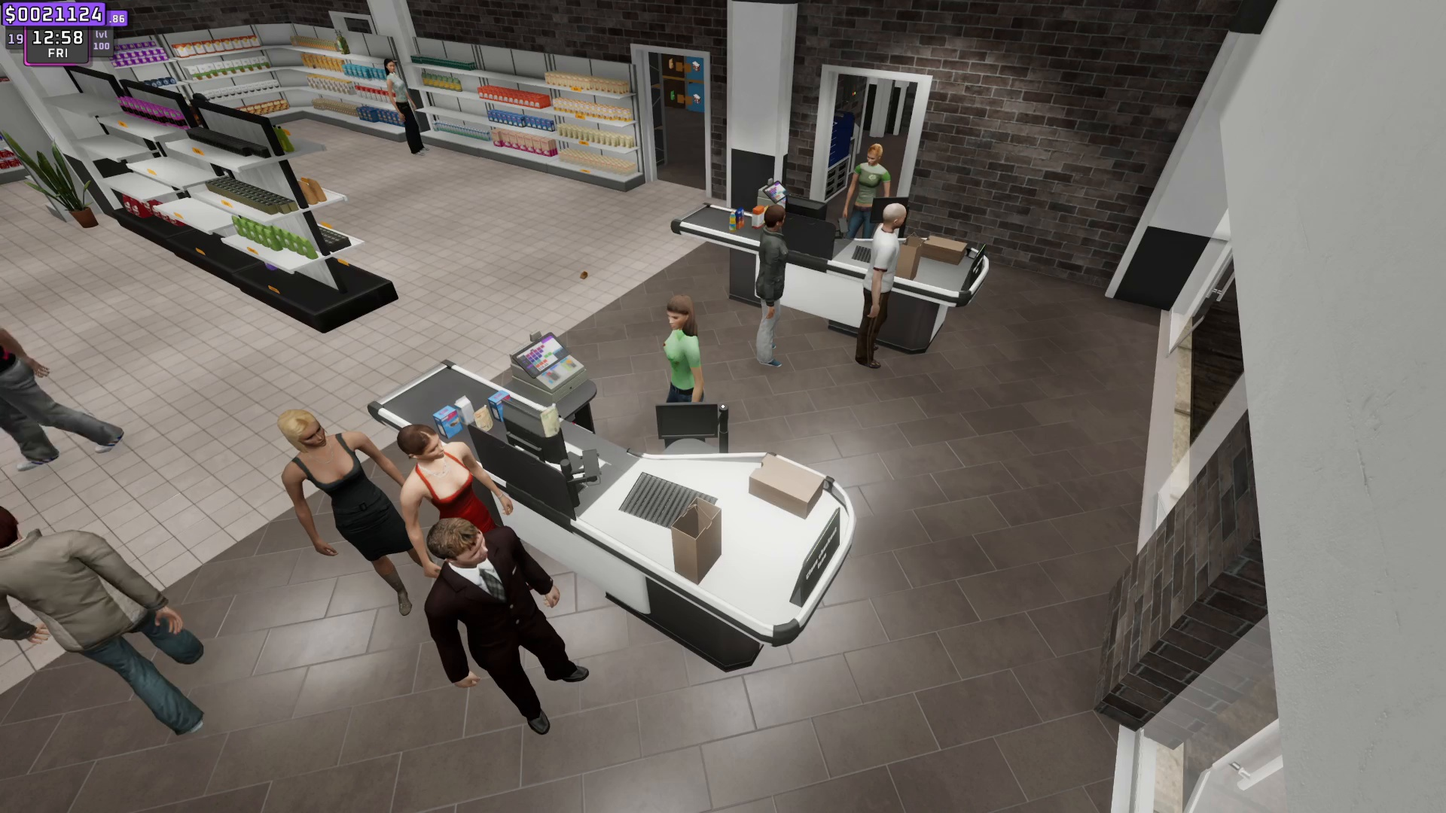Client: (425, 519, 595, 731), (264, 406, 425, 608), (401, 427, 505, 580), (859, 209, 907, 369), (758, 202, 792, 369)
Employee: (658, 297, 710, 404), (854, 142, 888, 209)
